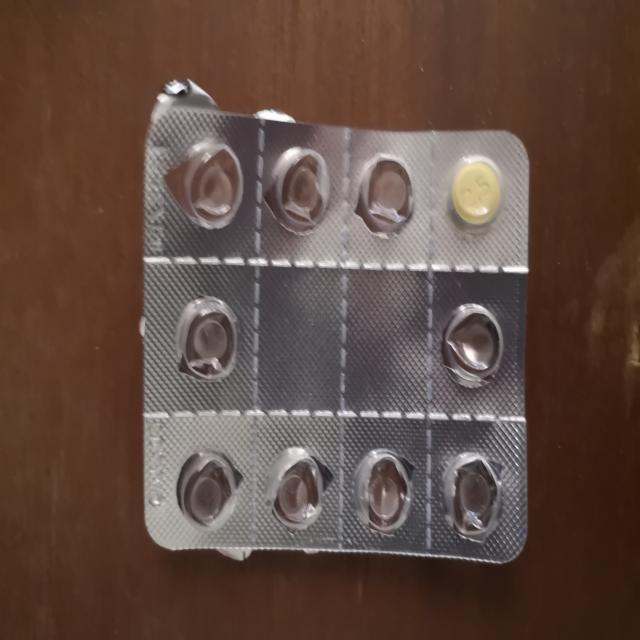Empty: (172, 122, 248, 236), (165, 438, 250, 536), (166, 288, 242, 392), (437, 448, 511, 548), (439, 292, 508, 398), (348, 441, 419, 542), (265, 140, 337, 238), (355, 146, 419, 250), (266, 443, 336, 538)
Pill: (440, 142, 508, 241)
